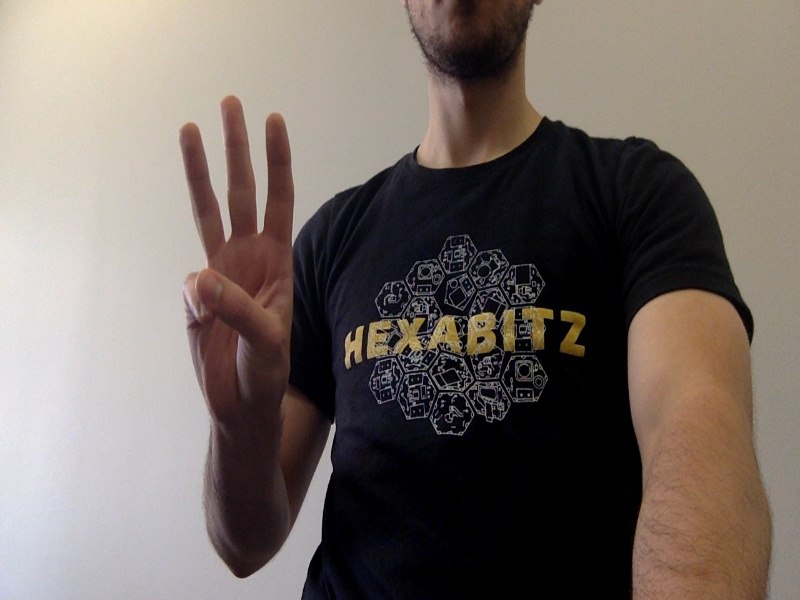3-hand: (178, 96, 294, 417)
